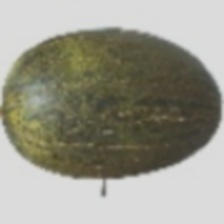honeydew: (14, 0, 204, 186)
